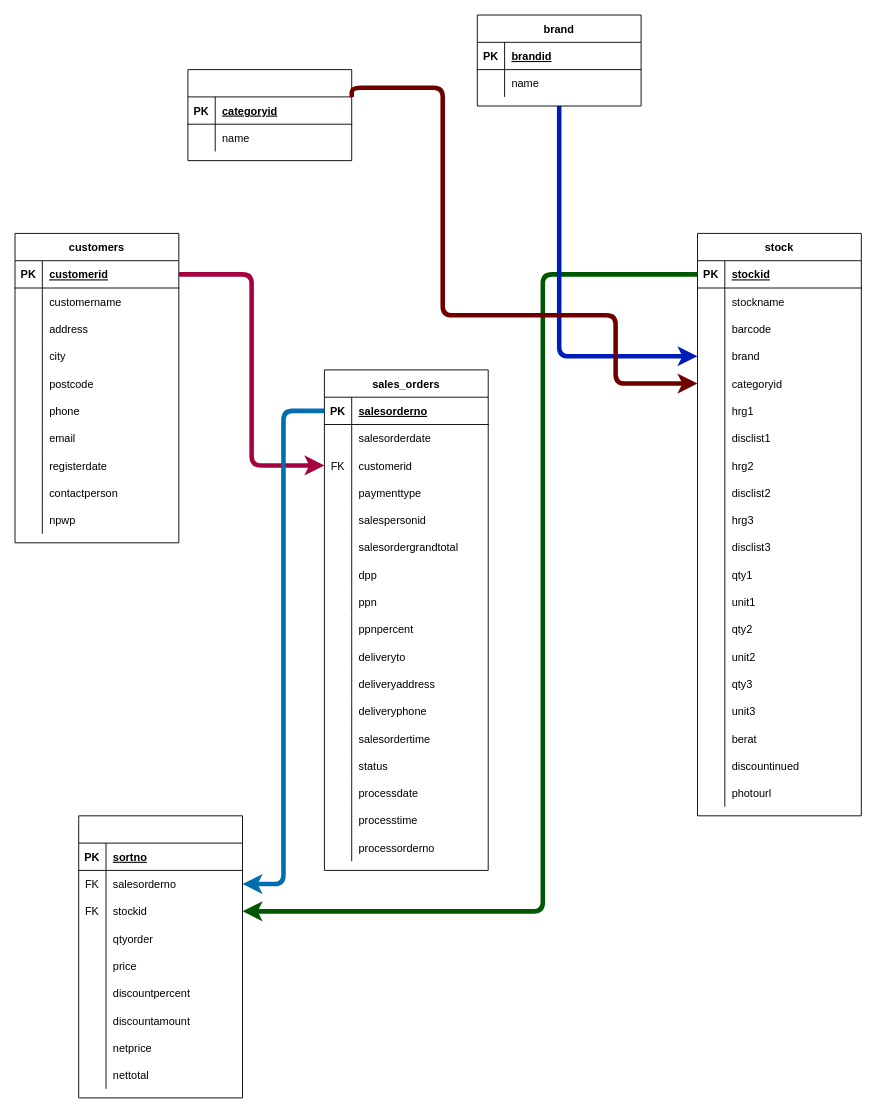
Image size: 876x1113. Some labels were removed from this diagram. Here are the shapes that lost their labels. From the top down, the box of each, then its label:
(187, 69, 352, 161): categories
(78, 815, 243, 1098): sales_order_details
